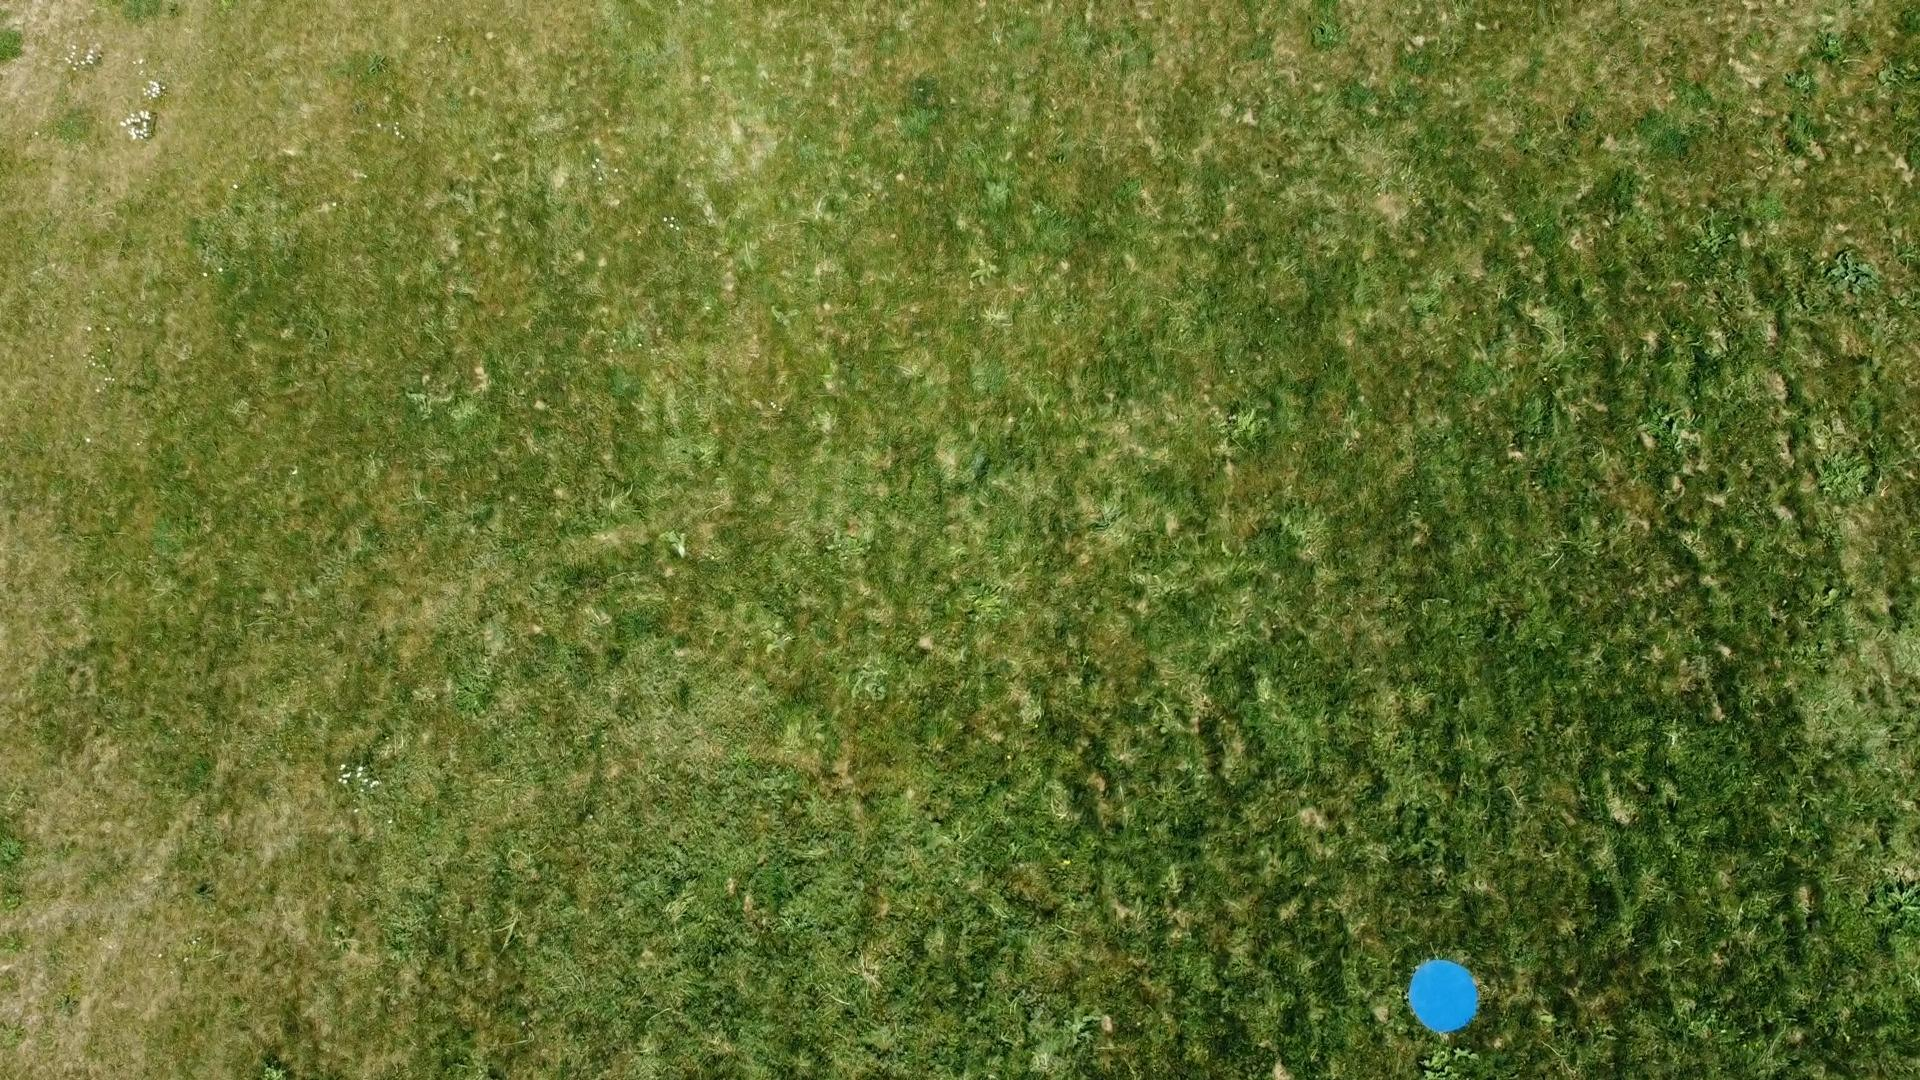Blue: (1407, 957, 1481, 1034)
